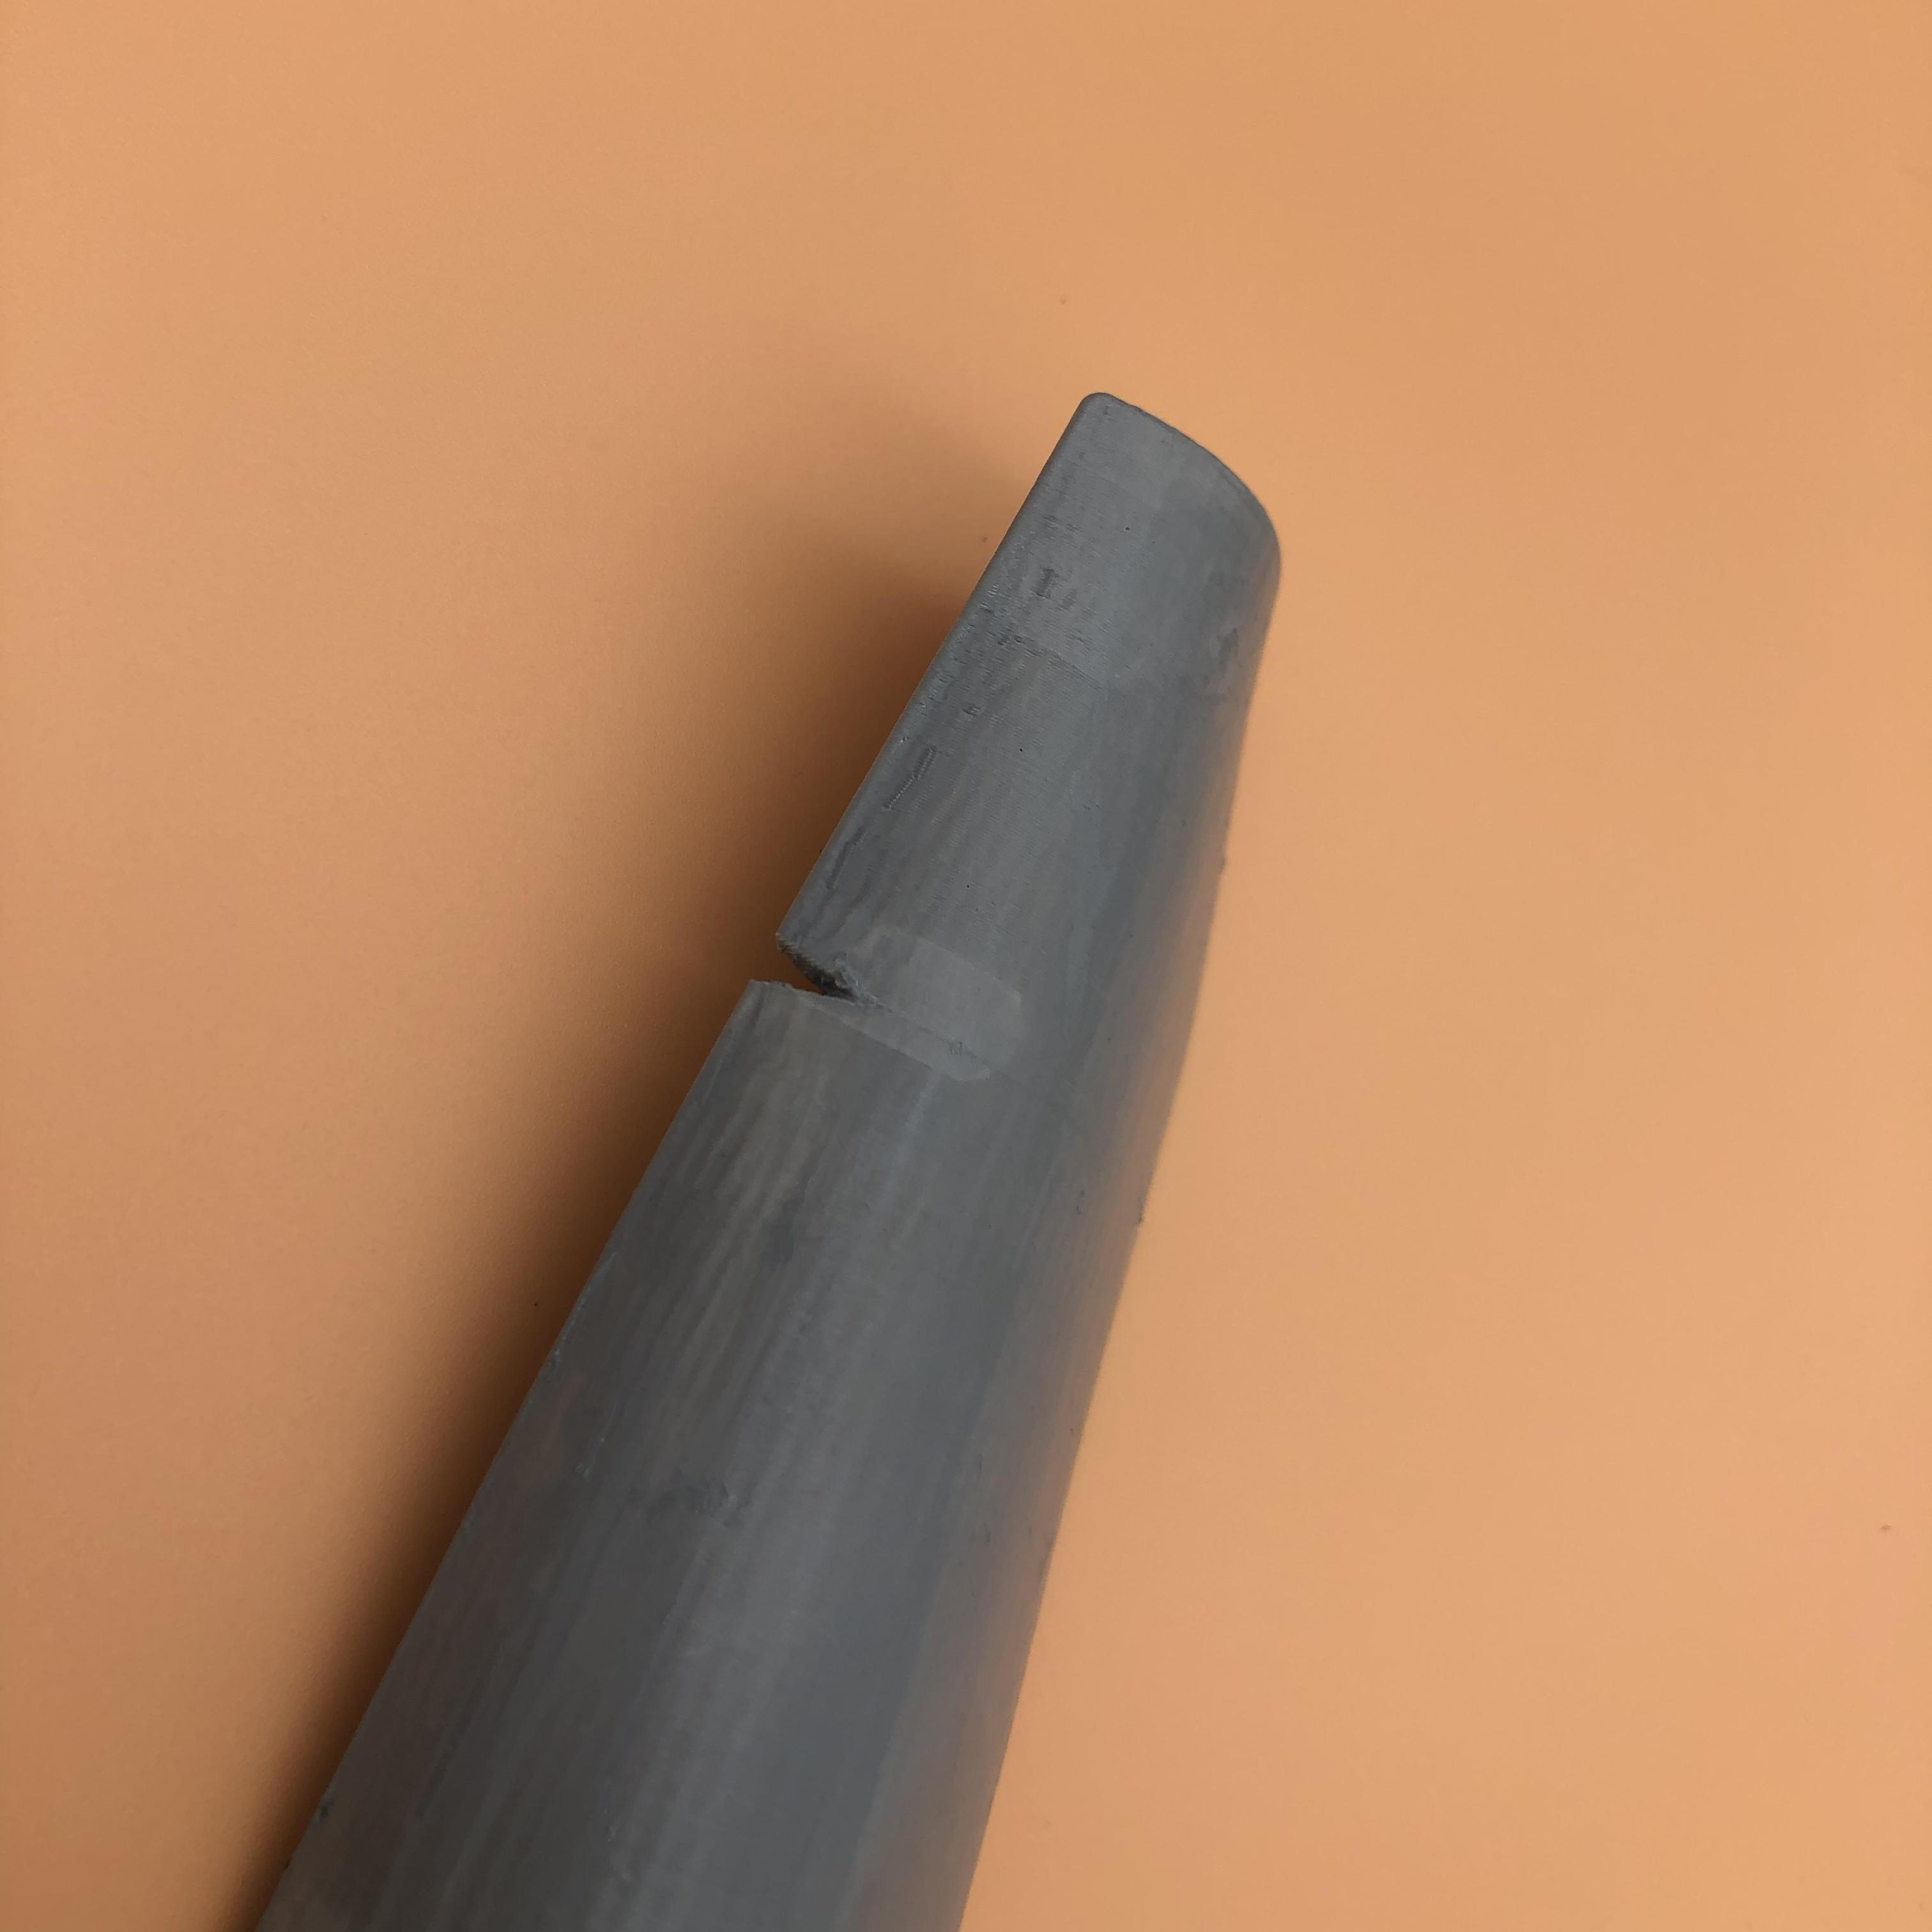groove: (761, 929, 870, 1016)
